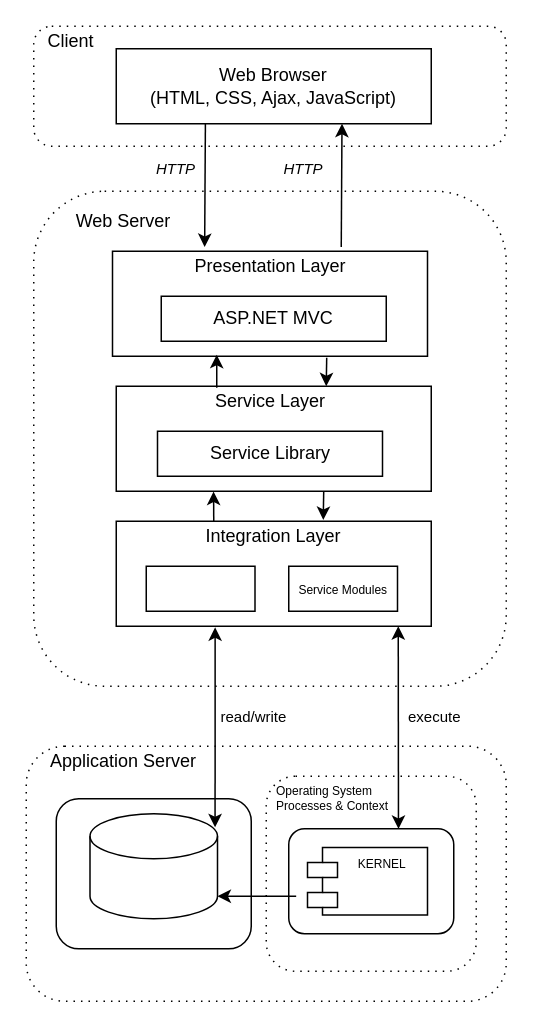
This 533x1028 diagram has some shape labels left out. The shapes that lost their labels are listed below. From the top down, each one's centre as x and y in pixels, then its label:
At point 200,588: "Entity Framework / Data Access".
At point 153,865: "PostgreSQL".
